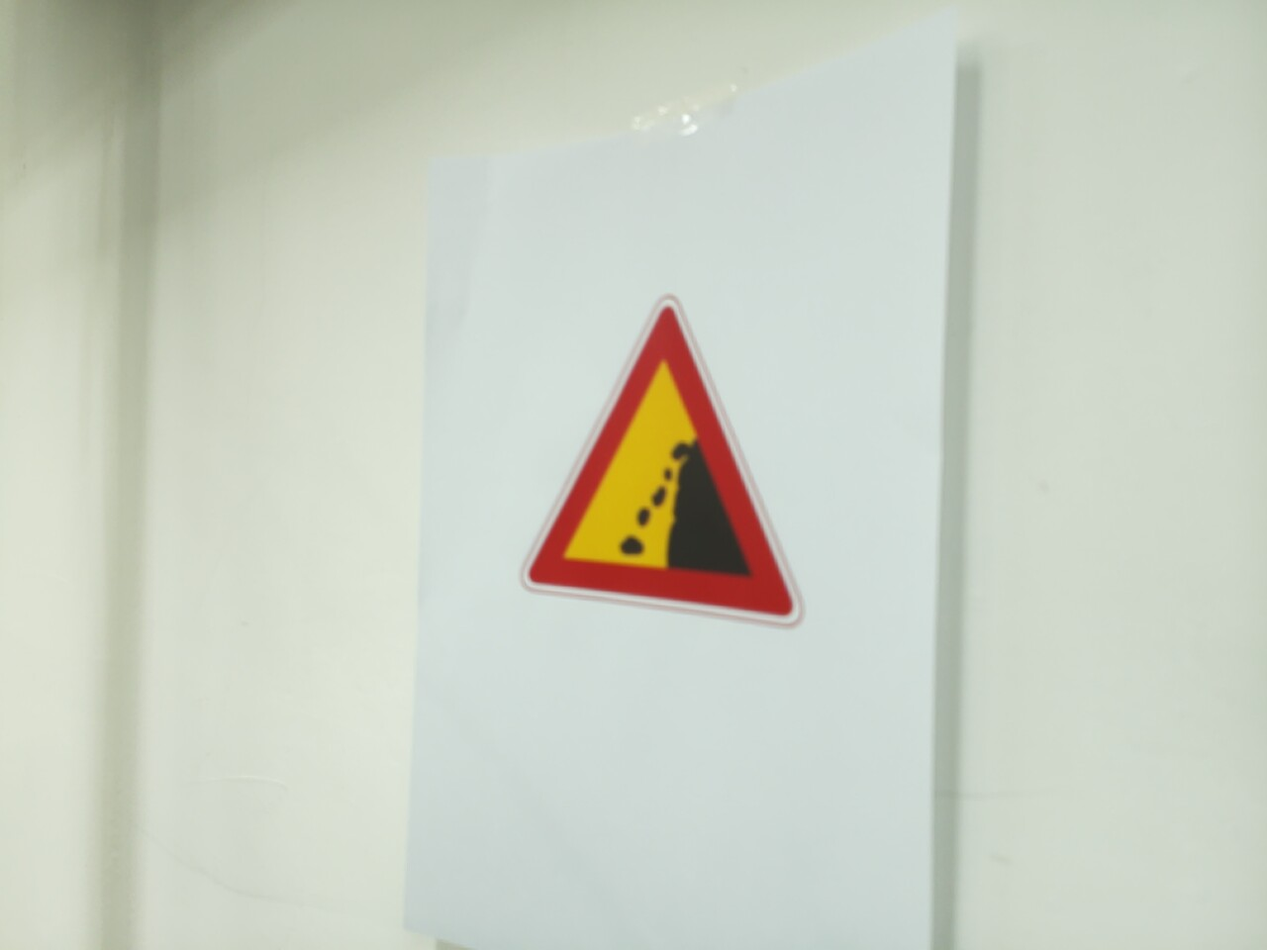falling_rocks: (520, 297, 802, 625)
